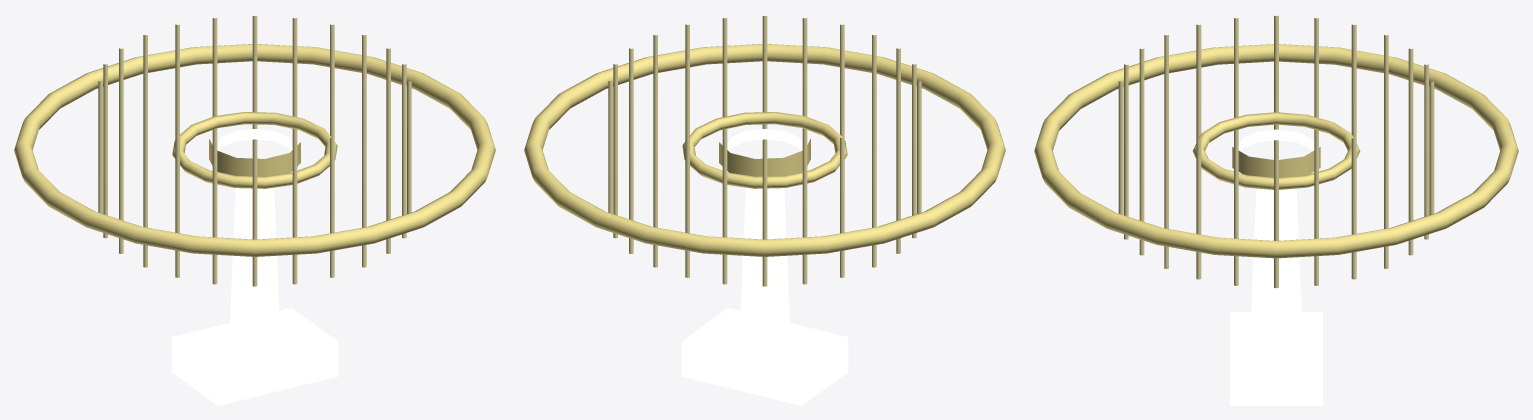
Rendered from cosmic_dharmachakra.glb.
3 views of the same model, side by side, from view 1: azimuth 30°, elevation 25°; view 2: azimuth 150°, elevation 25°; view 3: azimuth 270°, elevation 25° (orthographic).
Parts seen in each view (by area): view 1: RootNode; view 2: RootNode; view 3: RootNode.
Boxes of the visible parts, box(x1,y1,x2,y2) form: RootNode: box(14, 16, 495, 405); RootNode: box(524, 16, 1005, 405); RootNode: box(1034, 15, 1518, 405).
Size of the model in its own units: 6.24 by 4.2 by 6.24.
